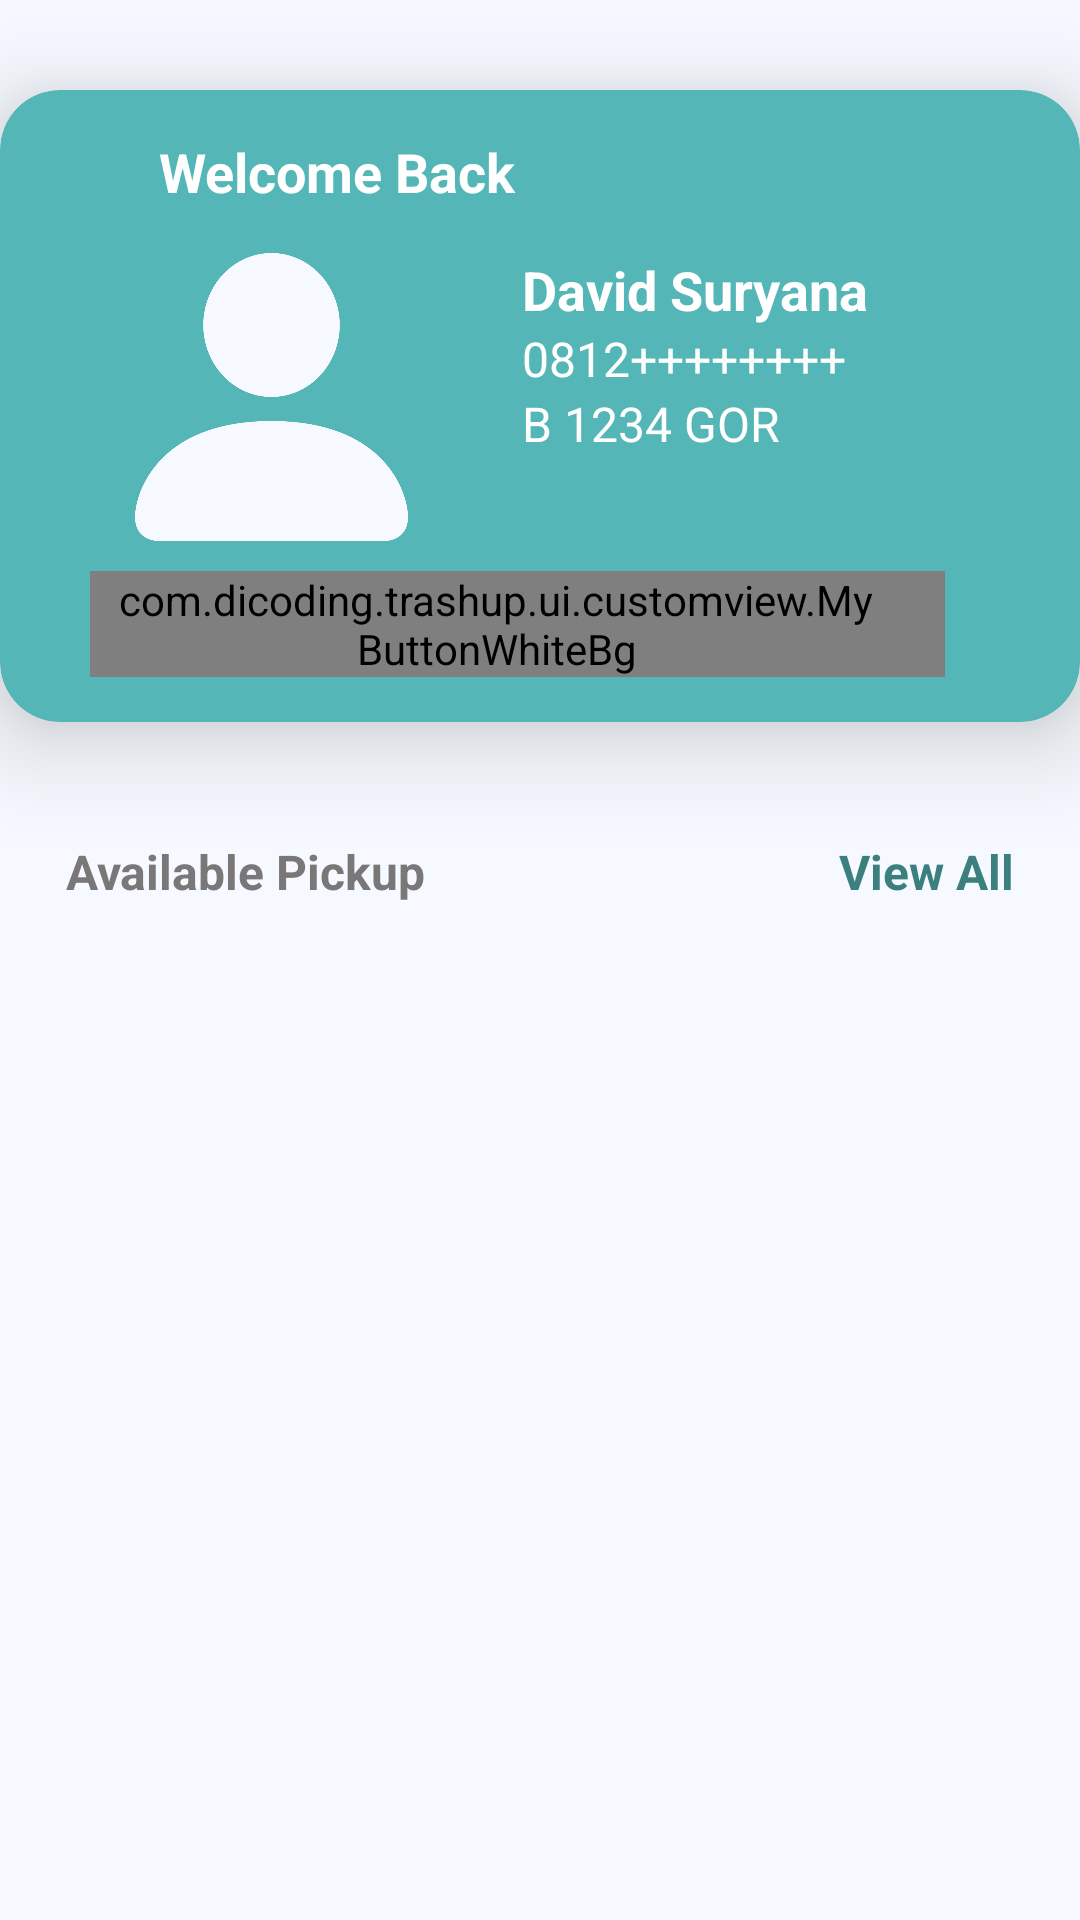

Icon bounding boxes for this 1080 × 1920 phone screenshot, format region(x1, y1, x2, y2):
driver profile: region(135, 253, 408, 541)
